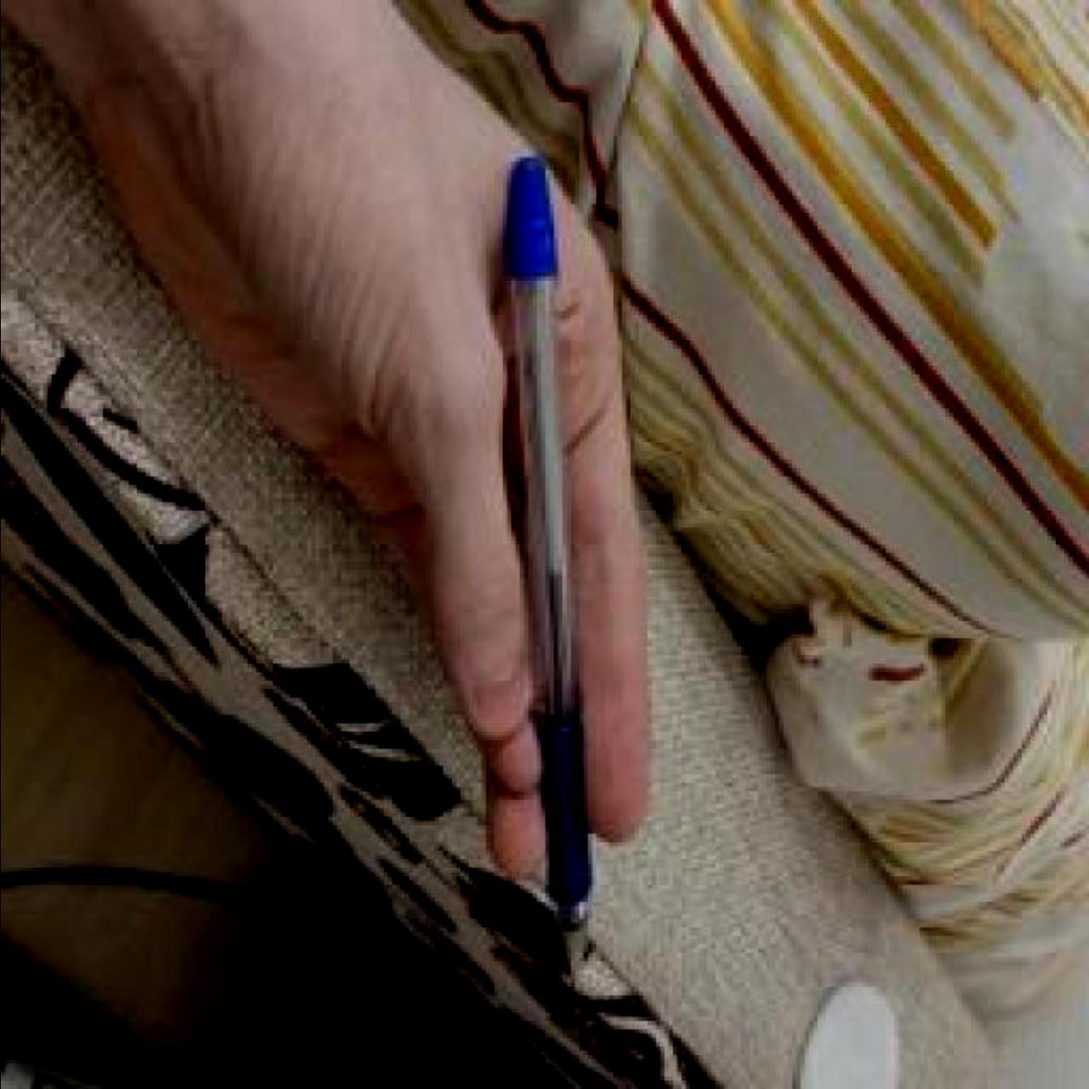pen: (505, 158, 596, 1001)
